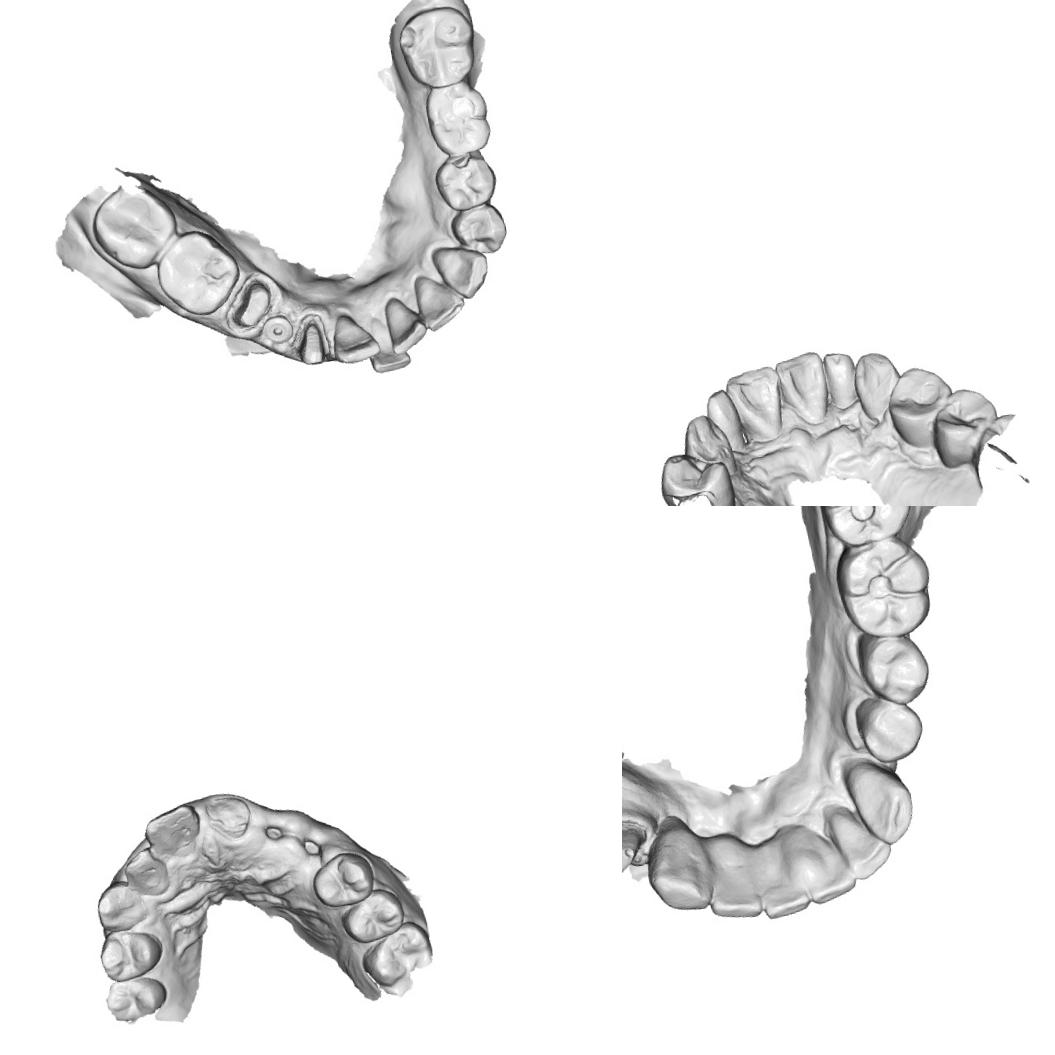canine: (640, 821, 717, 917), (852, 758, 920, 850), (678, 410, 739, 483), (850, 348, 907, 424), (430, 241, 494, 306), (93, 876, 150, 934)
crown: (224, 273, 282, 334), (293, 314, 331, 370), (622, 817, 650, 879)
implant: (256, 311, 297, 351)
incisor: (792, 832, 864, 915), (721, 363, 790, 448), (829, 808, 897, 887), (773, 350, 832, 430), (140, 801, 205, 863), (411, 268, 469, 334), (705, 869, 765, 927), (755, 866, 816, 922), (328, 309, 384, 367), (382, 292, 431, 358), (363, 312, 413, 375), (702, 386, 746, 457), (120, 844, 172, 901), (820, 348, 864, 412)
molar: (828, 532, 940, 644), (84, 177, 186, 278), (149, 222, 247, 324), (393, 2, 483, 94), (356, 917, 437, 991), (421, 80, 495, 160), (813, 506, 918, 550)
premolar: (882, 361, 960, 453), (851, 627, 935, 712), (926, 384, 1004, 472), (654, 444, 738, 506), (856, 695, 928, 766), (430, 150, 502, 215), (336, 884, 408, 947), (308, 847, 378, 911), (96, 924, 167, 984), (446, 200, 511, 260), (102, 974, 170, 1024)
